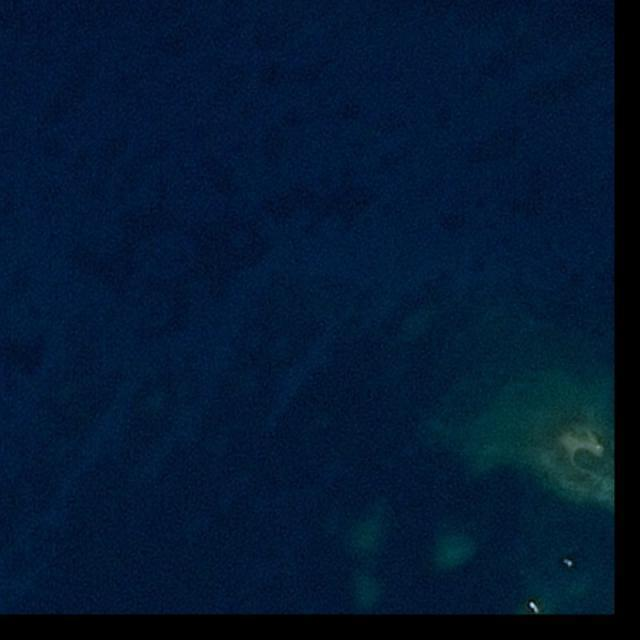ship: (527, 602, 542, 614), (562, 558, 574, 568)
